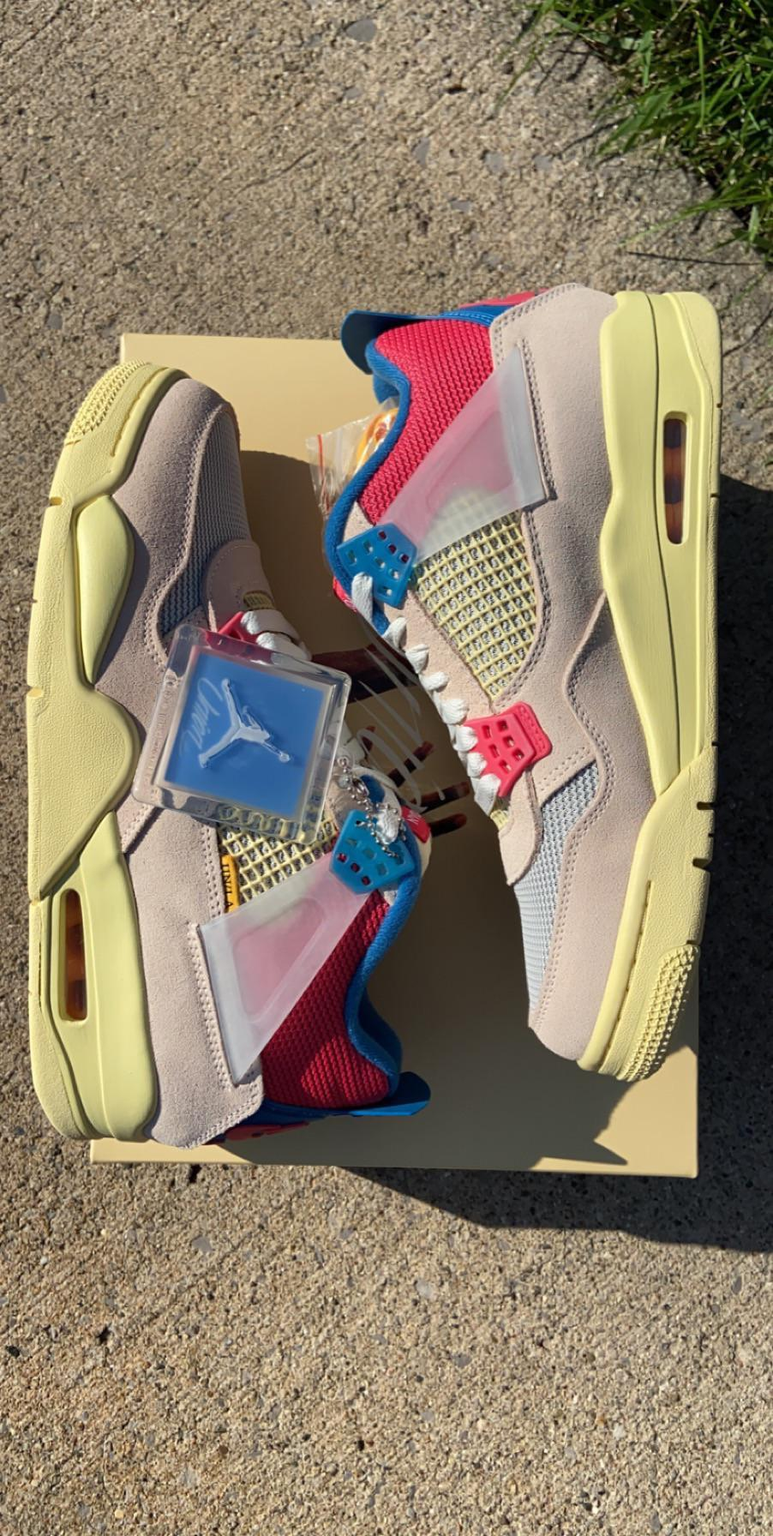sneaker: (39, 347, 387, 1152), (366, 274, 694, 1083)
